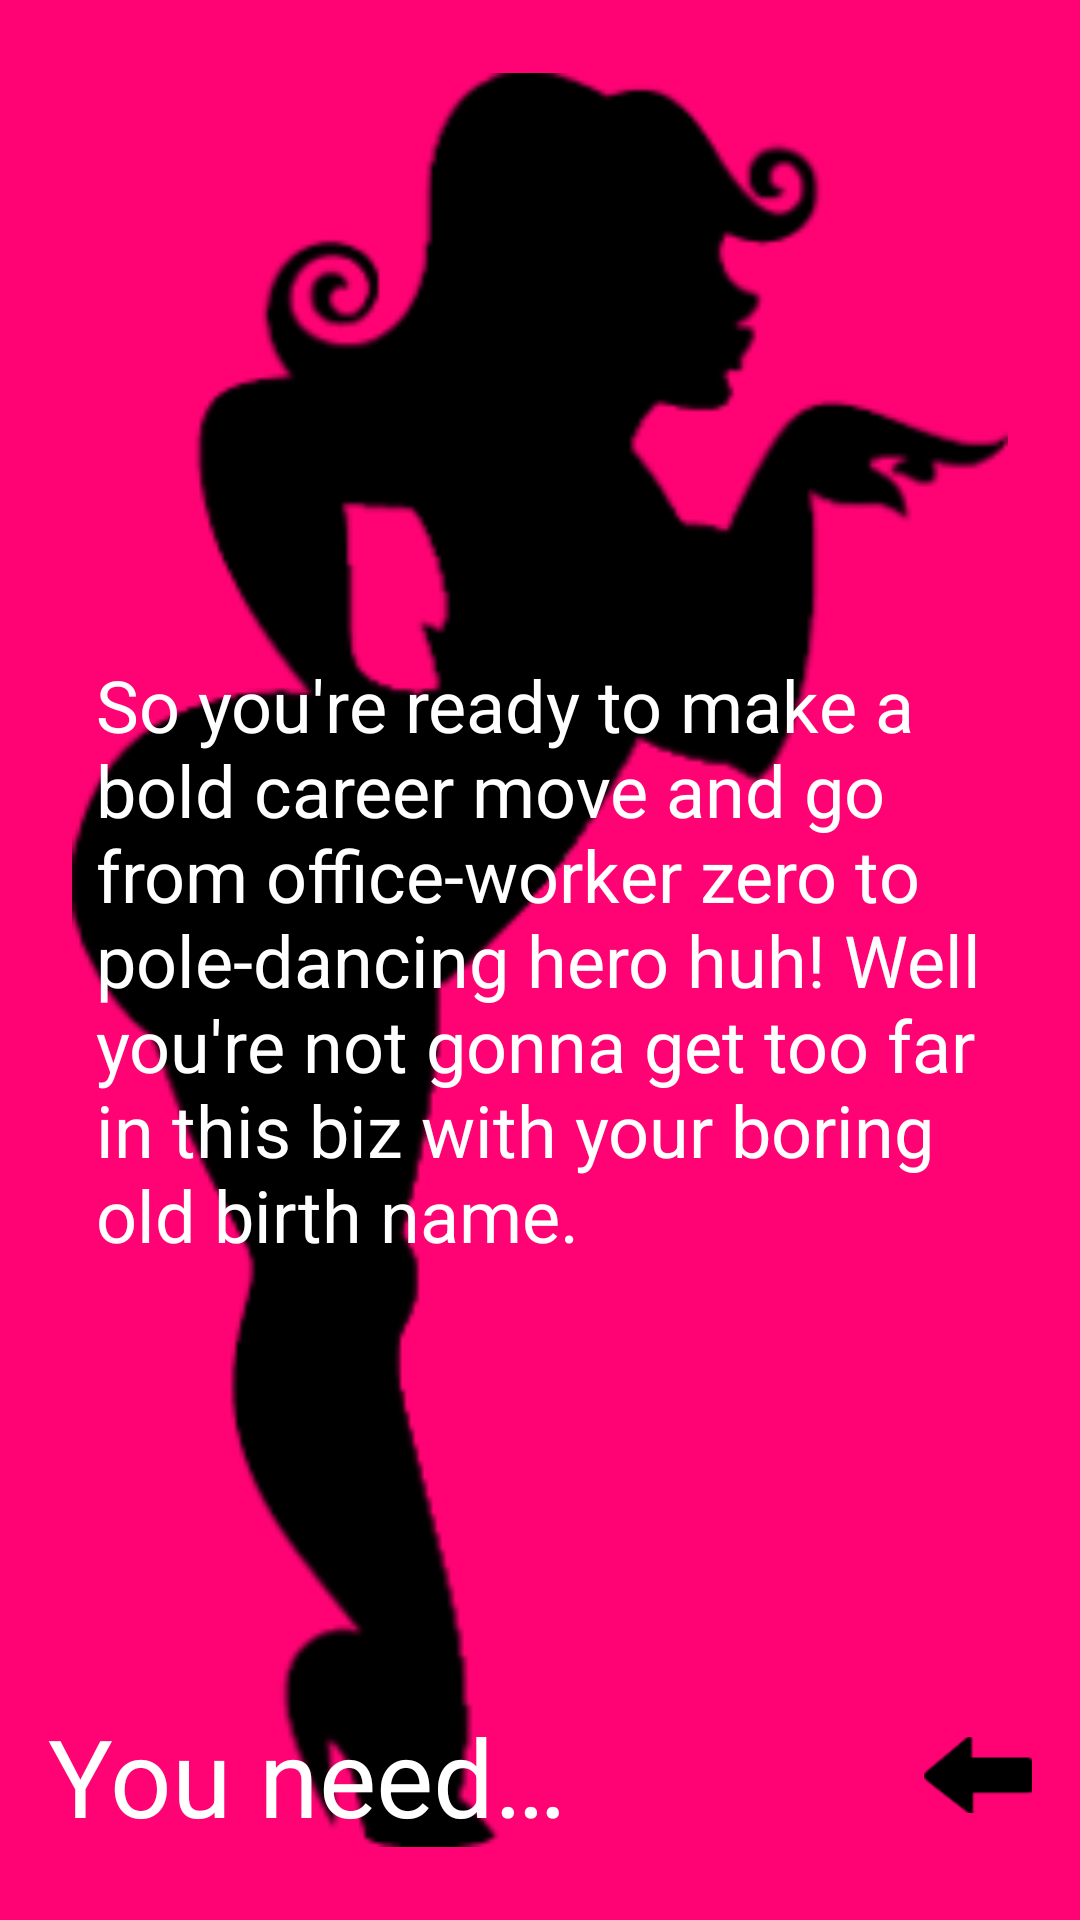

Where icons sit on this 1080w x 1920h app screen, as (x1, y1, x2, y2):
arrow: (924, 1737, 1032, 1813)
